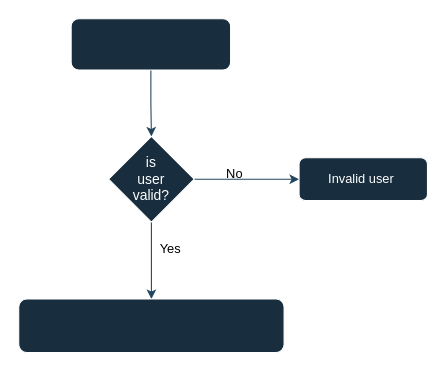
Some shapes in this 446 by 371 pixel diagram are drawn without their labels. Here are the shapes that lost their labels. From the top down, the box of each, then its label:
(70, 18, 231, 70): Enrollment List
(18, 298, 284, 353): Enrollment list of that student
